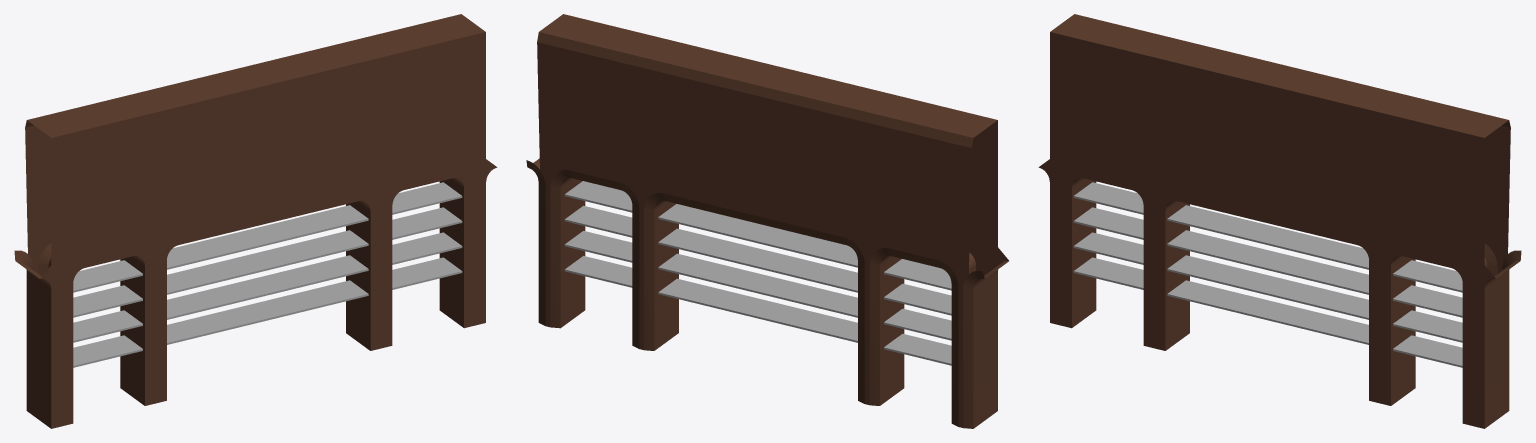
Rendered from SM_Environment1_mur_etagere1.fbx.
3 renders of one model, left to right at view 1: azimuth 30°, elevation 25°; view 2: azimuth 150°, elevation 25°; view 3: azimuth 330°, elevation 25°, orthographic.
Parts seen in each view (by area): view 1: Environment1_mur_etagere1; view 2: Environment1_mur_etagere1; view 3: Environment1_mur_etagere1.
Boxes of the visible parts, x1,y1,x2,y2 form: Environment1_mur_etagere1: (14, 14, 497, 428); Environment1_mur_etagere1: (526, 14, 1008, 428); Environment1_mur_etagere1: (1038, 14, 1521, 428).
Size of the model in its own units: 1118 by 679 by 111.
